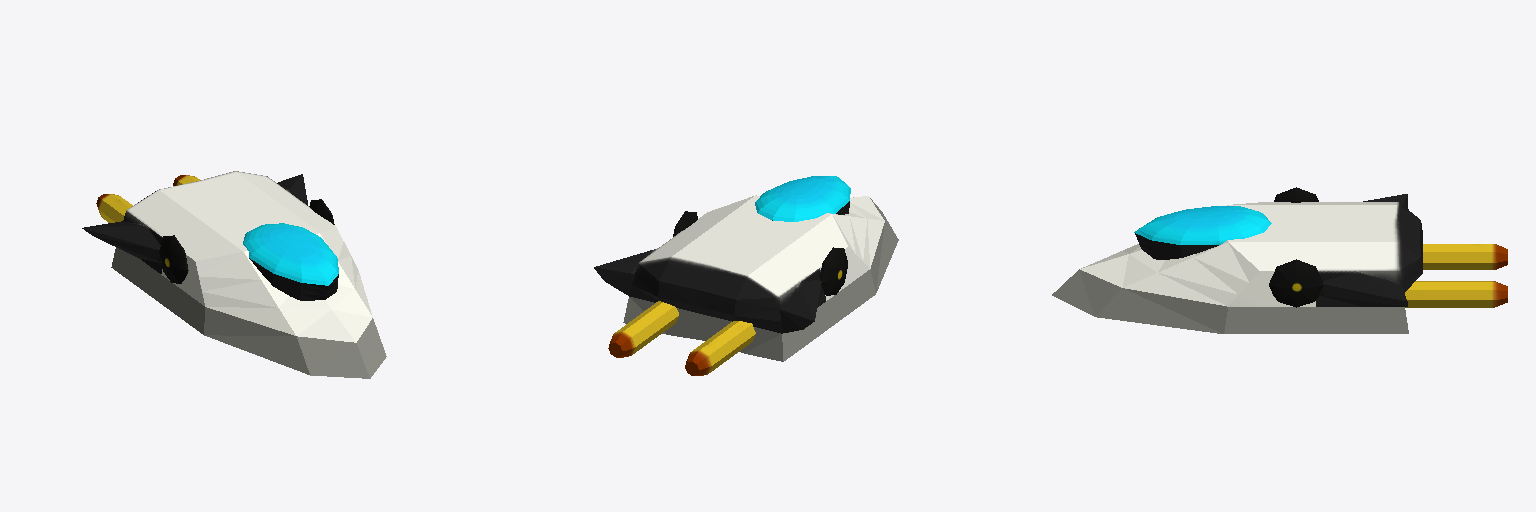
The picture shows the model from 3 angles: view 1: azimuth 30°, elevation 25°; view 2: azimuth 150°, elevation 25°; view 3: azimuth 270°, elevation 25°; orthographic projection.
Visible parts, largest first — view 1: Cube; view 2: Cube; view 3: Cube.
Boxes of the visible parts, x1=… form: Cube: x1=82, y1=171, x2=386, y2=378; Cube: x1=594, y1=176, x2=898, y2=375; Cube: x1=1052, y1=187, x2=1507, y2=333.
Bounding box in the file's own units: 1.74 × 0.6381 × 3.11.
1 materials, 1 textured.